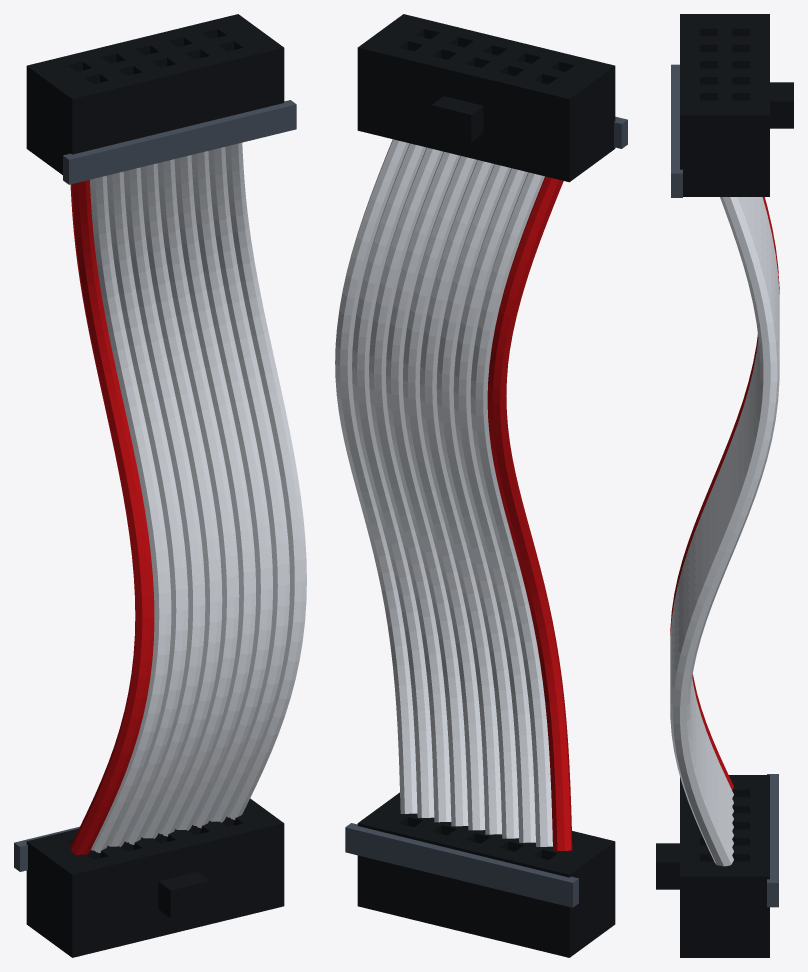
Rendered from extension_data_cable.obj.
The picture shows the model from 3 angles, left to right: view 1: azimuth 30°, elevation 25°; view 2: azimuth 150°, elevation 25°; view 3: azimuth 270°, elevation 25°; orthographic projection.
Visible parts, largest first — view 1: extension_data_cable; view 2: extension_data_cable; view 3: extension_data_cable.
Boxes of the visible parts, box(x1,y1,x2,y2) form: extension_data_cable: box(14, 14, 306, 957); extension_data_cable: box(335, 14, 627, 957); extension_data_cable: box(656, 14, 793, 957).
Bounding box in the file's own units: 0.6132 × 2 × 0.2968.
